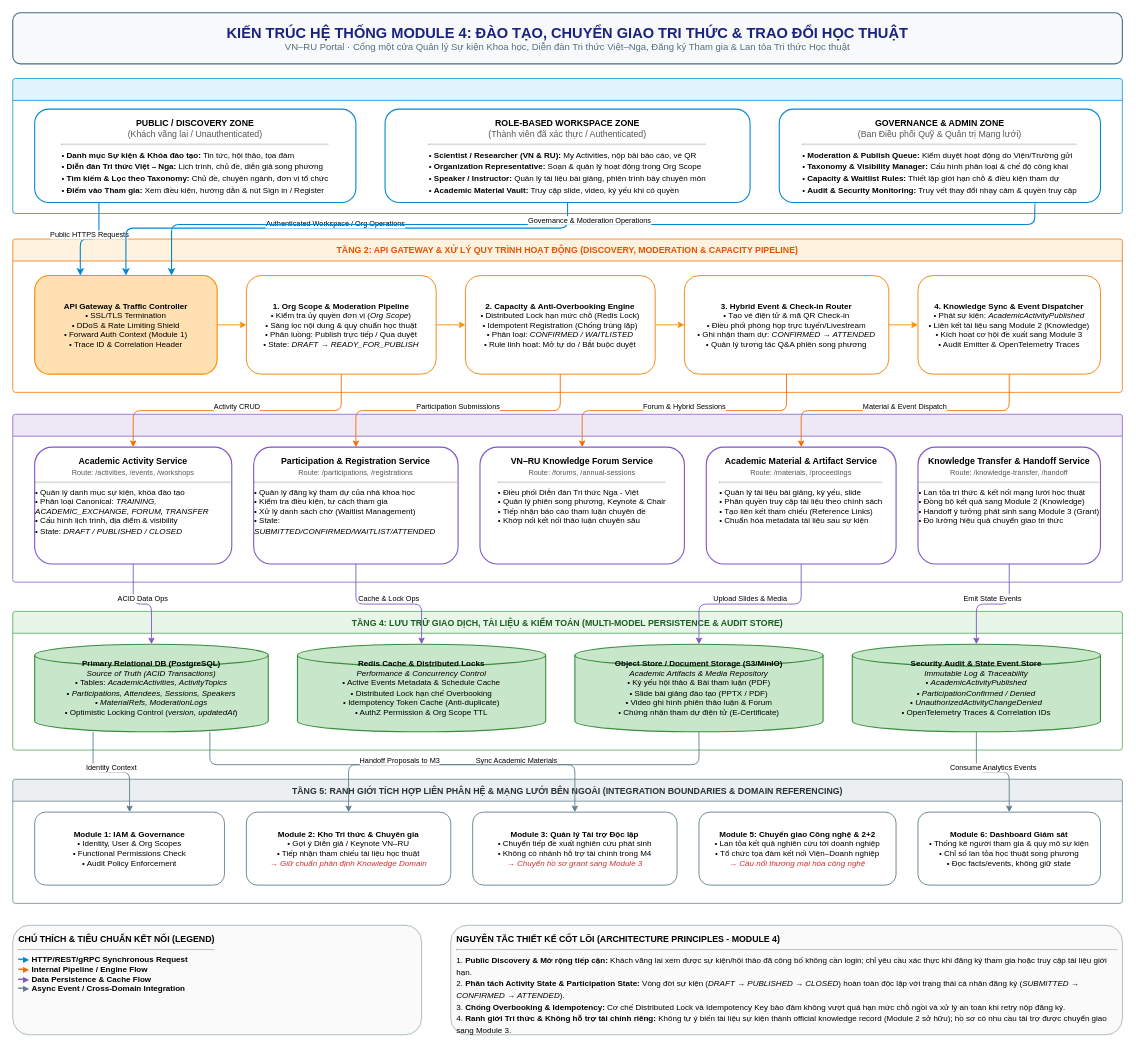
The diagram is 1136 pixels wide and 1050 high, and some of its shapes have lost their labels. The shapes that lost their labels are listed below. From the top down, each one's box as (x1, y1, x2, y2) in pixels, then its label:
(12, 78, 1122, 214): TẦNG 1: TRẢI NGHIỆM TRUY CẬP (3 CANONICAL ACCESS ZONES)
(12, 414, 1122, 582): TẦNG 3: CÁC DỊCH VỤ NGHIỆP VỤ LÕI (CORE DOMAIN SERVICES - BUSINESS LOGIC)
